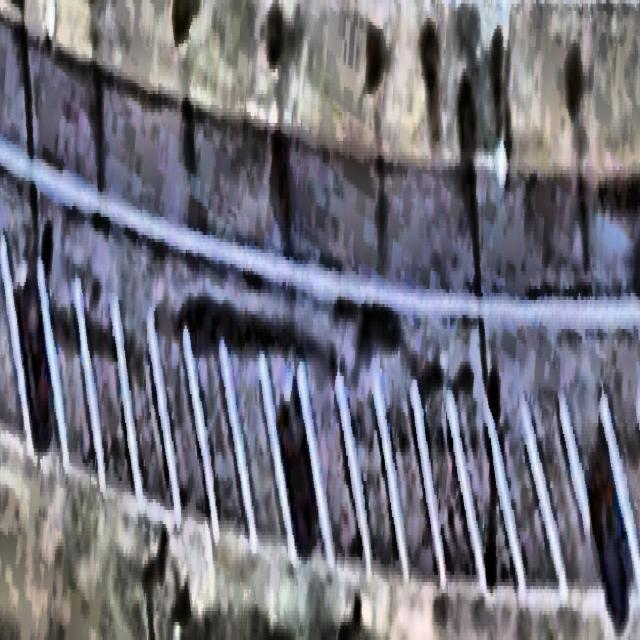Car: (271, 343, 329, 573), (584, 400, 639, 633), (2, 235, 57, 444)
Empty: (525, 403, 602, 600), (489, 403, 565, 595), (224, 350, 291, 558), (117, 300, 180, 520), (187, 336, 253, 545), (450, 400, 522, 591), (416, 392, 486, 586), (152, 321, 217, 528), (303, 373, 370, 567), (340, 375, 406, 570), (378, 390, 444, 585), (77, 288, 140, 490), (41, 263, 101, 473), (604, 399, 640, 567)
